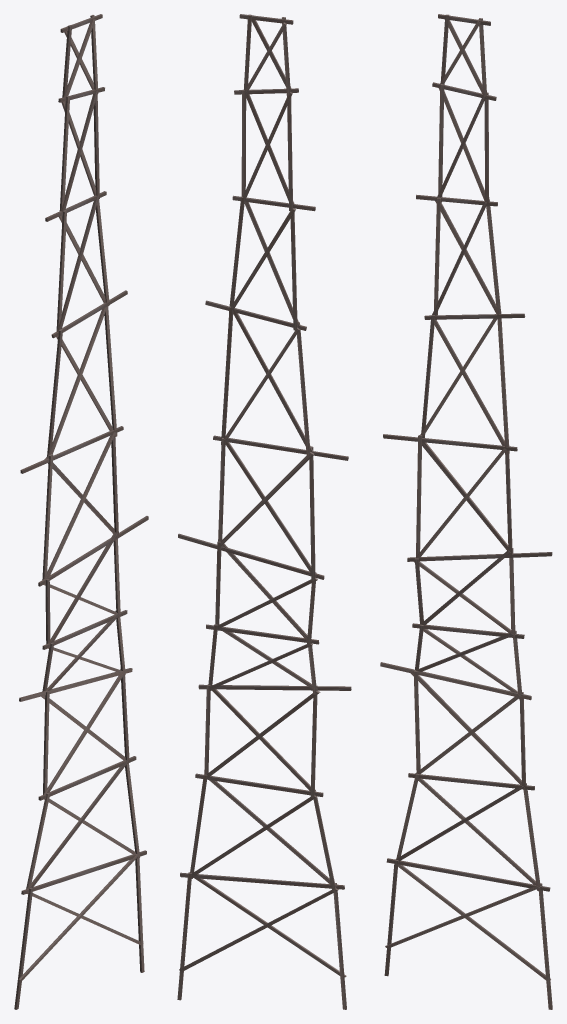
Rendered from pylon.fbx.
3 views of the same model, side by side, from view 1: azimuth 30°, elevation 25°; view 2: azimuth 150°, elevation 25°; view 3: azimuth 330°, elevation 25° (orthographic).
Parts seen in each view (by area): view 1: pylon; view 2: pylon; view 3: pylon.
Boxes of the visible parts, x1=… form: pylon: x1=14, y1=14, x2=148, y2=1009; pylon: x1=177, y1=14, x2=351, y2=1009; pylon: x1=380, y1=14, x2=552, y2=1009.
Size of the model in its own units: 244 by 1521 by 70.36.
